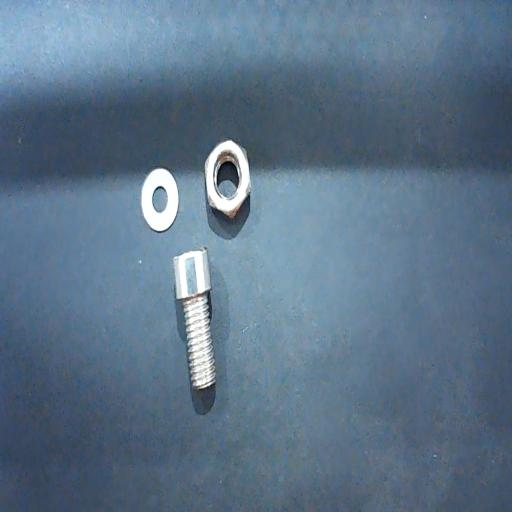nut: (205, 140, 251, 220)
screw: (173, 247, 216, 390)
washer: (140, 168, 178, 232)
